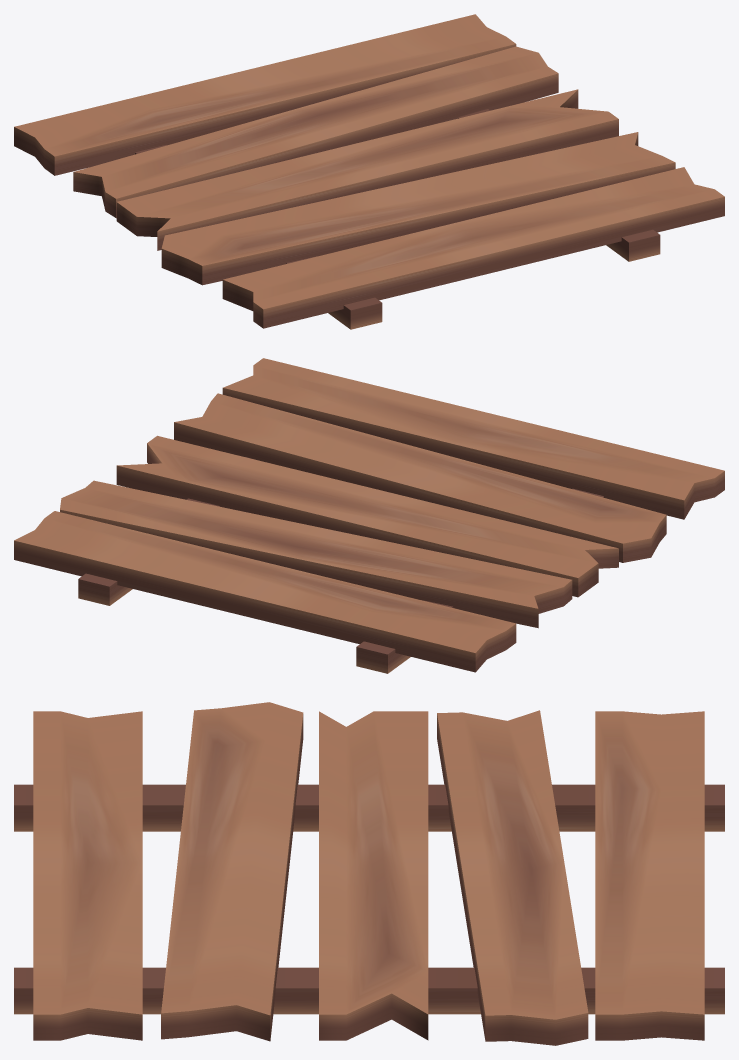
The model's file is BridgeMod.fbx.
3 views of the same model, one above another, from view 1: azimuth 30°, elevation 25°; view 2: azimuth 150°, elevation 25°; view 3: azimuth 270°, elevation 25° (orthographic). The views are drawn at different scales.
Parts seen in each view (by area): view 1: Bridge; view 2: Bridge; view 3: Bridge.
Boxes of the visible parts, box(x1,y1,x2,y2) form: Bridge: box(14, 14, 724, 329); Bridge: box(14, 358, 724, 673); Bridge: box(14, 702, 724, 1045).
Bounding box in the file's own units: 167 × 11.48 × 158.
